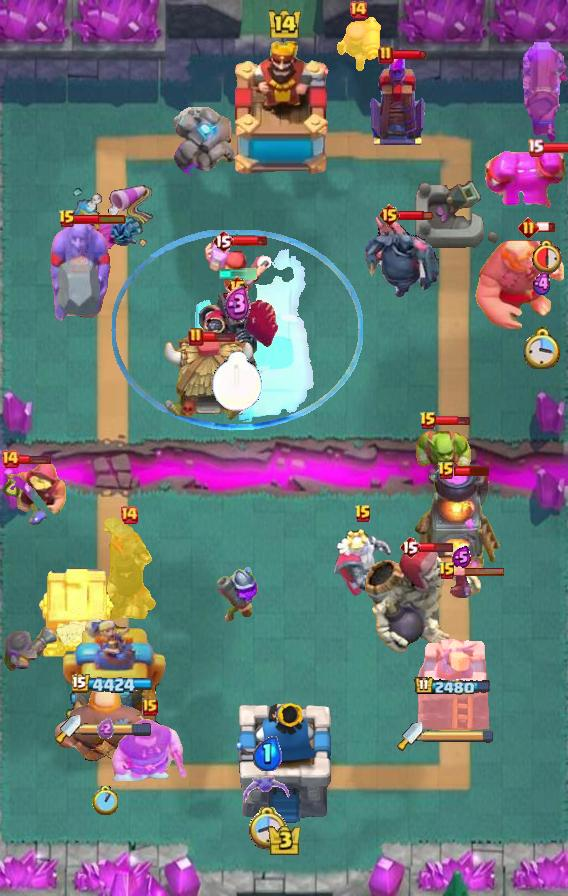archer-queen: (47, 216, 113, 328)
balloon: (474, 229, 568, 331), (52, 680, 158, 770)
bar: (61, 615, 166, 731), (416, 637, 490, 731)
barbarian: (242, 771, 292, 809)
barbarian-barrel: (447, 569, 475, 601)
battle-healer: (522, 41, 568, 145)
bomb: (37, 565, 117, 659)
bomb-tower: (0, 623, 60, 677), (217, 565, 259, 623)
clone: (482, 146, 568, 232)
electro-giant: (361, 543, 483, 655)
electro-spirit: (252, 737, 282, 771), (225, 286, 251, 323), (530, 272, 553, 296), (452, 546, 471, 570), (98, 717, 115, 739)
elixir: (211, 351, 263, 412), (248, 807, 288, 851), (523, 327, 561, 369), (532, 238, 565, 274), (92, 785, 118, 814)
emote: (73, 213, 126, 225), (454, 567, 506, 578), (435, 413, 471, 427), (454, 464, 491, 477), (391, 49, 427, 61), (232, 235, 268, 247), (398, 209, 433, 221), (419, 541, 454, 553), (201, 331, 235, 343), (16, 455, 51, 466), (540, 142, 567, 154), (536, 221, 556, 233)
fireball: (0, 461, 68, 527)
flying-machine: (409, 423, 471, 477)
golemite: (365, 212, 439, 300)
hunter: (413, 467, 501, 577)
ice-spirit: (216, 268, 258, 280)
ice-spirit-evolution-symbol: (366, 51, 428, 147)
inferno-dragon: (99, 516, 159, 622)
inferno-tower: (193, 290, 281, 372)
king-tower: (228, 41, 340, 181), (235, 703, 333, 826)
king-tower-bar: (81, 722, 153, 736), (423, 729, 495, 743)
mighty-miner: (203, 237, 271, 299)
mortar-evolution: (331, 526, 395, 598)
pad_0: (110, 230, 364, 432)
prince: (160, 333, 254, 423)
royal-hog: (110, 717, 190, 781)
selected: (71, 674, 156, 696), (414, 675, 492, 697)
text: (379, 203, 402, 227), (226, 275, 249, 299), (212, 229, 234, 253), (399, 535, 421, 559), (517, 217, 538, 238), (348, 0, 368, 20), (0, 449, 20, 469), (119, 505, 139, 525), (58, 209, 76, 229), (419, 411, 437, 431), (437, 461, 455, 481), (354, 504, 372, 524), (438, 561, 456, 581), (527, 139, 545, 158), (378, 45, 394, 65), (188, 327, 204, 347), (142, 698, 158, 716)
tombstone: (335, 15, 382, 73)
valkyrie-evolution: (170, 107, 240, 175)
